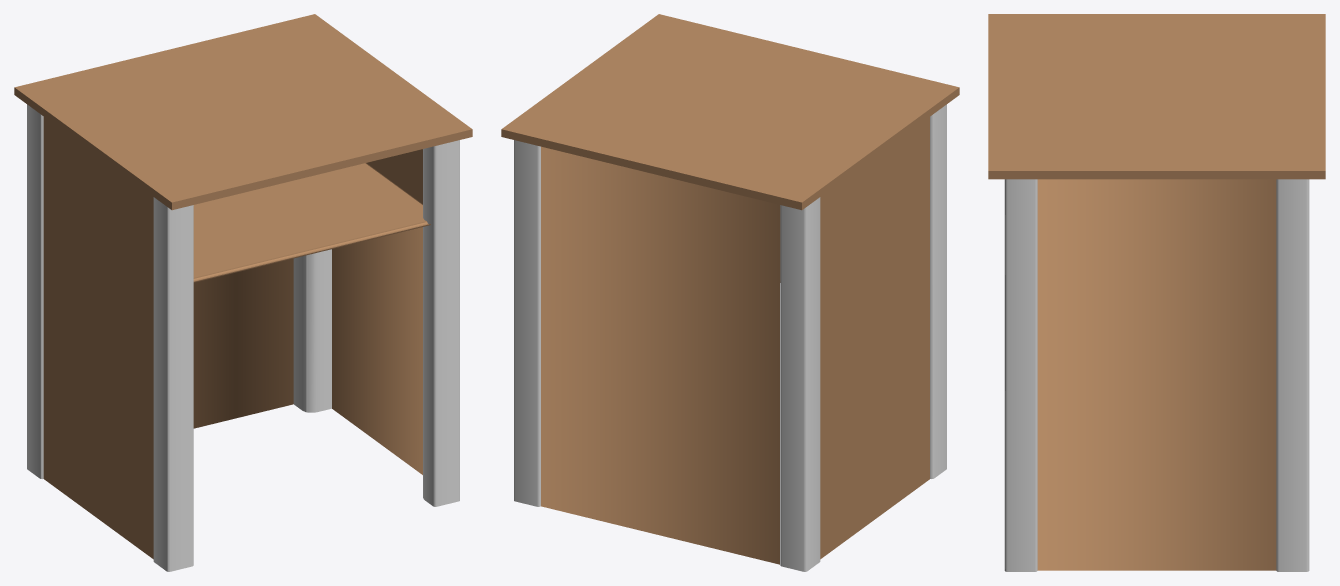
Rendered from School Teacher Desk Low poly 1.fbx.
3 renders of one model, left to right at view 1: azimuth 30°, elevation 25°; view 2: azimuth 150°, elevation 25°; view 3: azimuth 270°, elevation 25°, orthographic. The views are drawn at different scales.
Visible parts, largest first — view 1: Cube.001, Cube; view 2: Cube.001, Cube; view 3: Cube.001, Cube.
Part boxes in pixels (x1,y1,x2,y2): Cube.001: (27, 104, 459, 571); Cube: (14, 14, 472, 282); Cube.001: (514, 104, 946, 571); Cube: (501, 14, 959, 282); Cube.001: (1004, 179, 1309, 571); Cube: (988, 14, 1325, 179).
Size of the model in its own units: 64.14 by 76.71 by 58.18.
